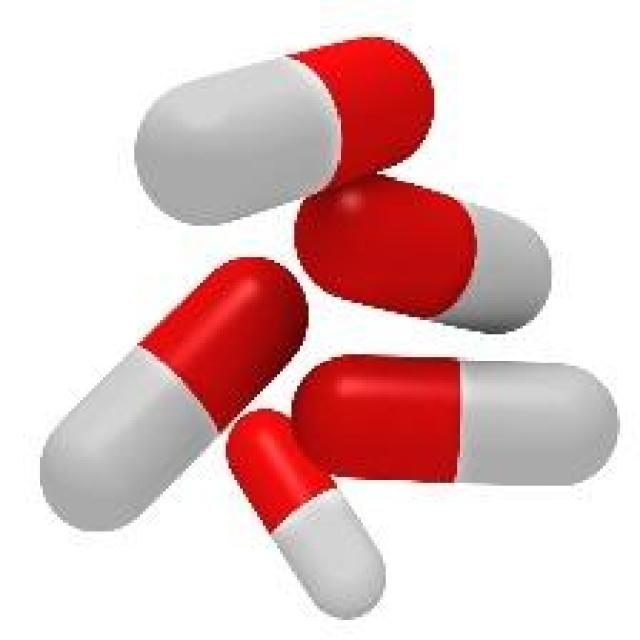Medicine: (43, 18, 630, 640)
